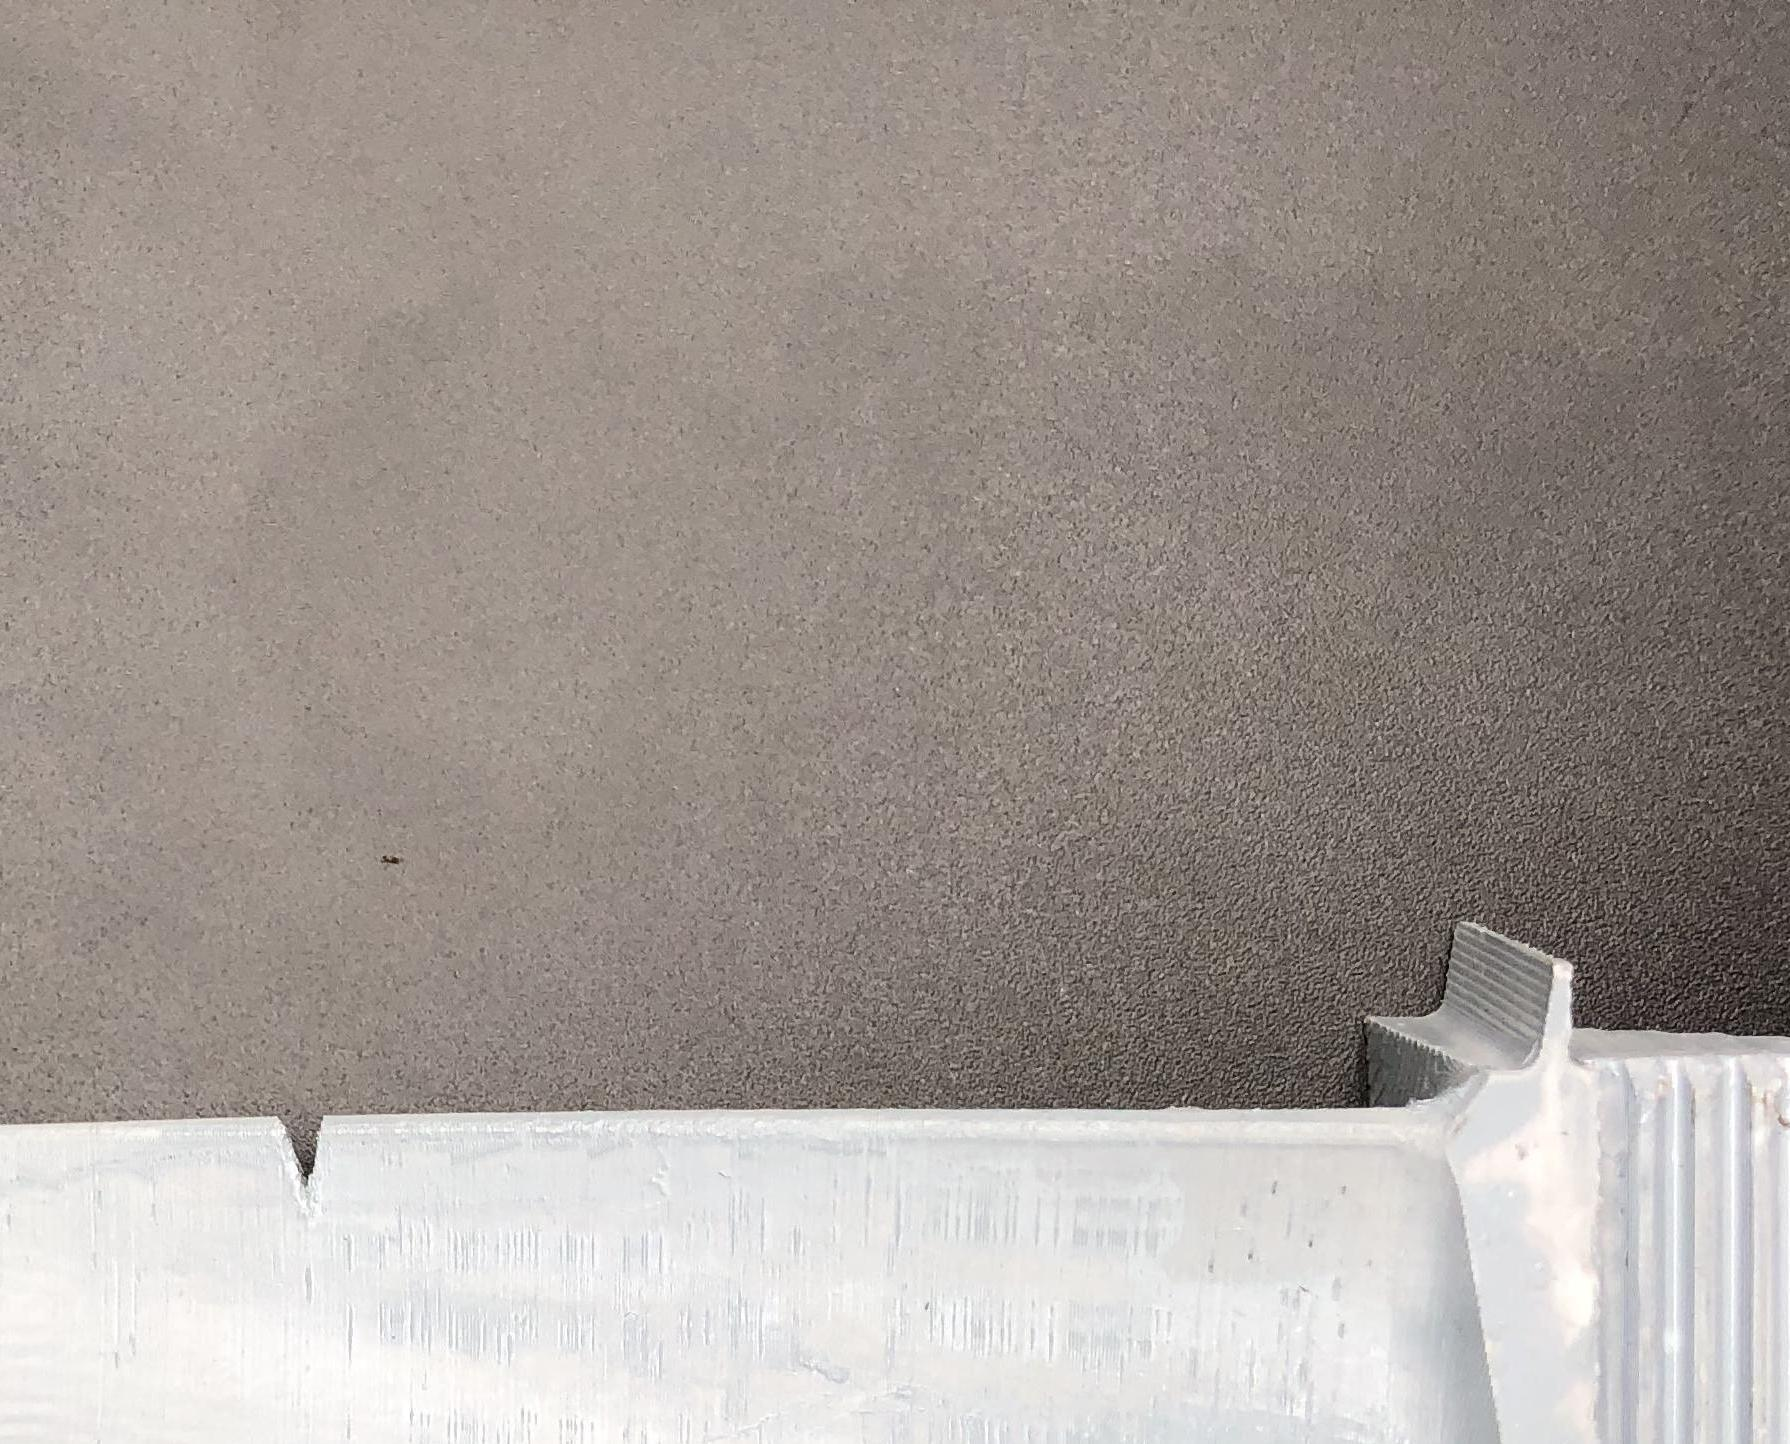groove: (267, 1117, 331, 1195)
